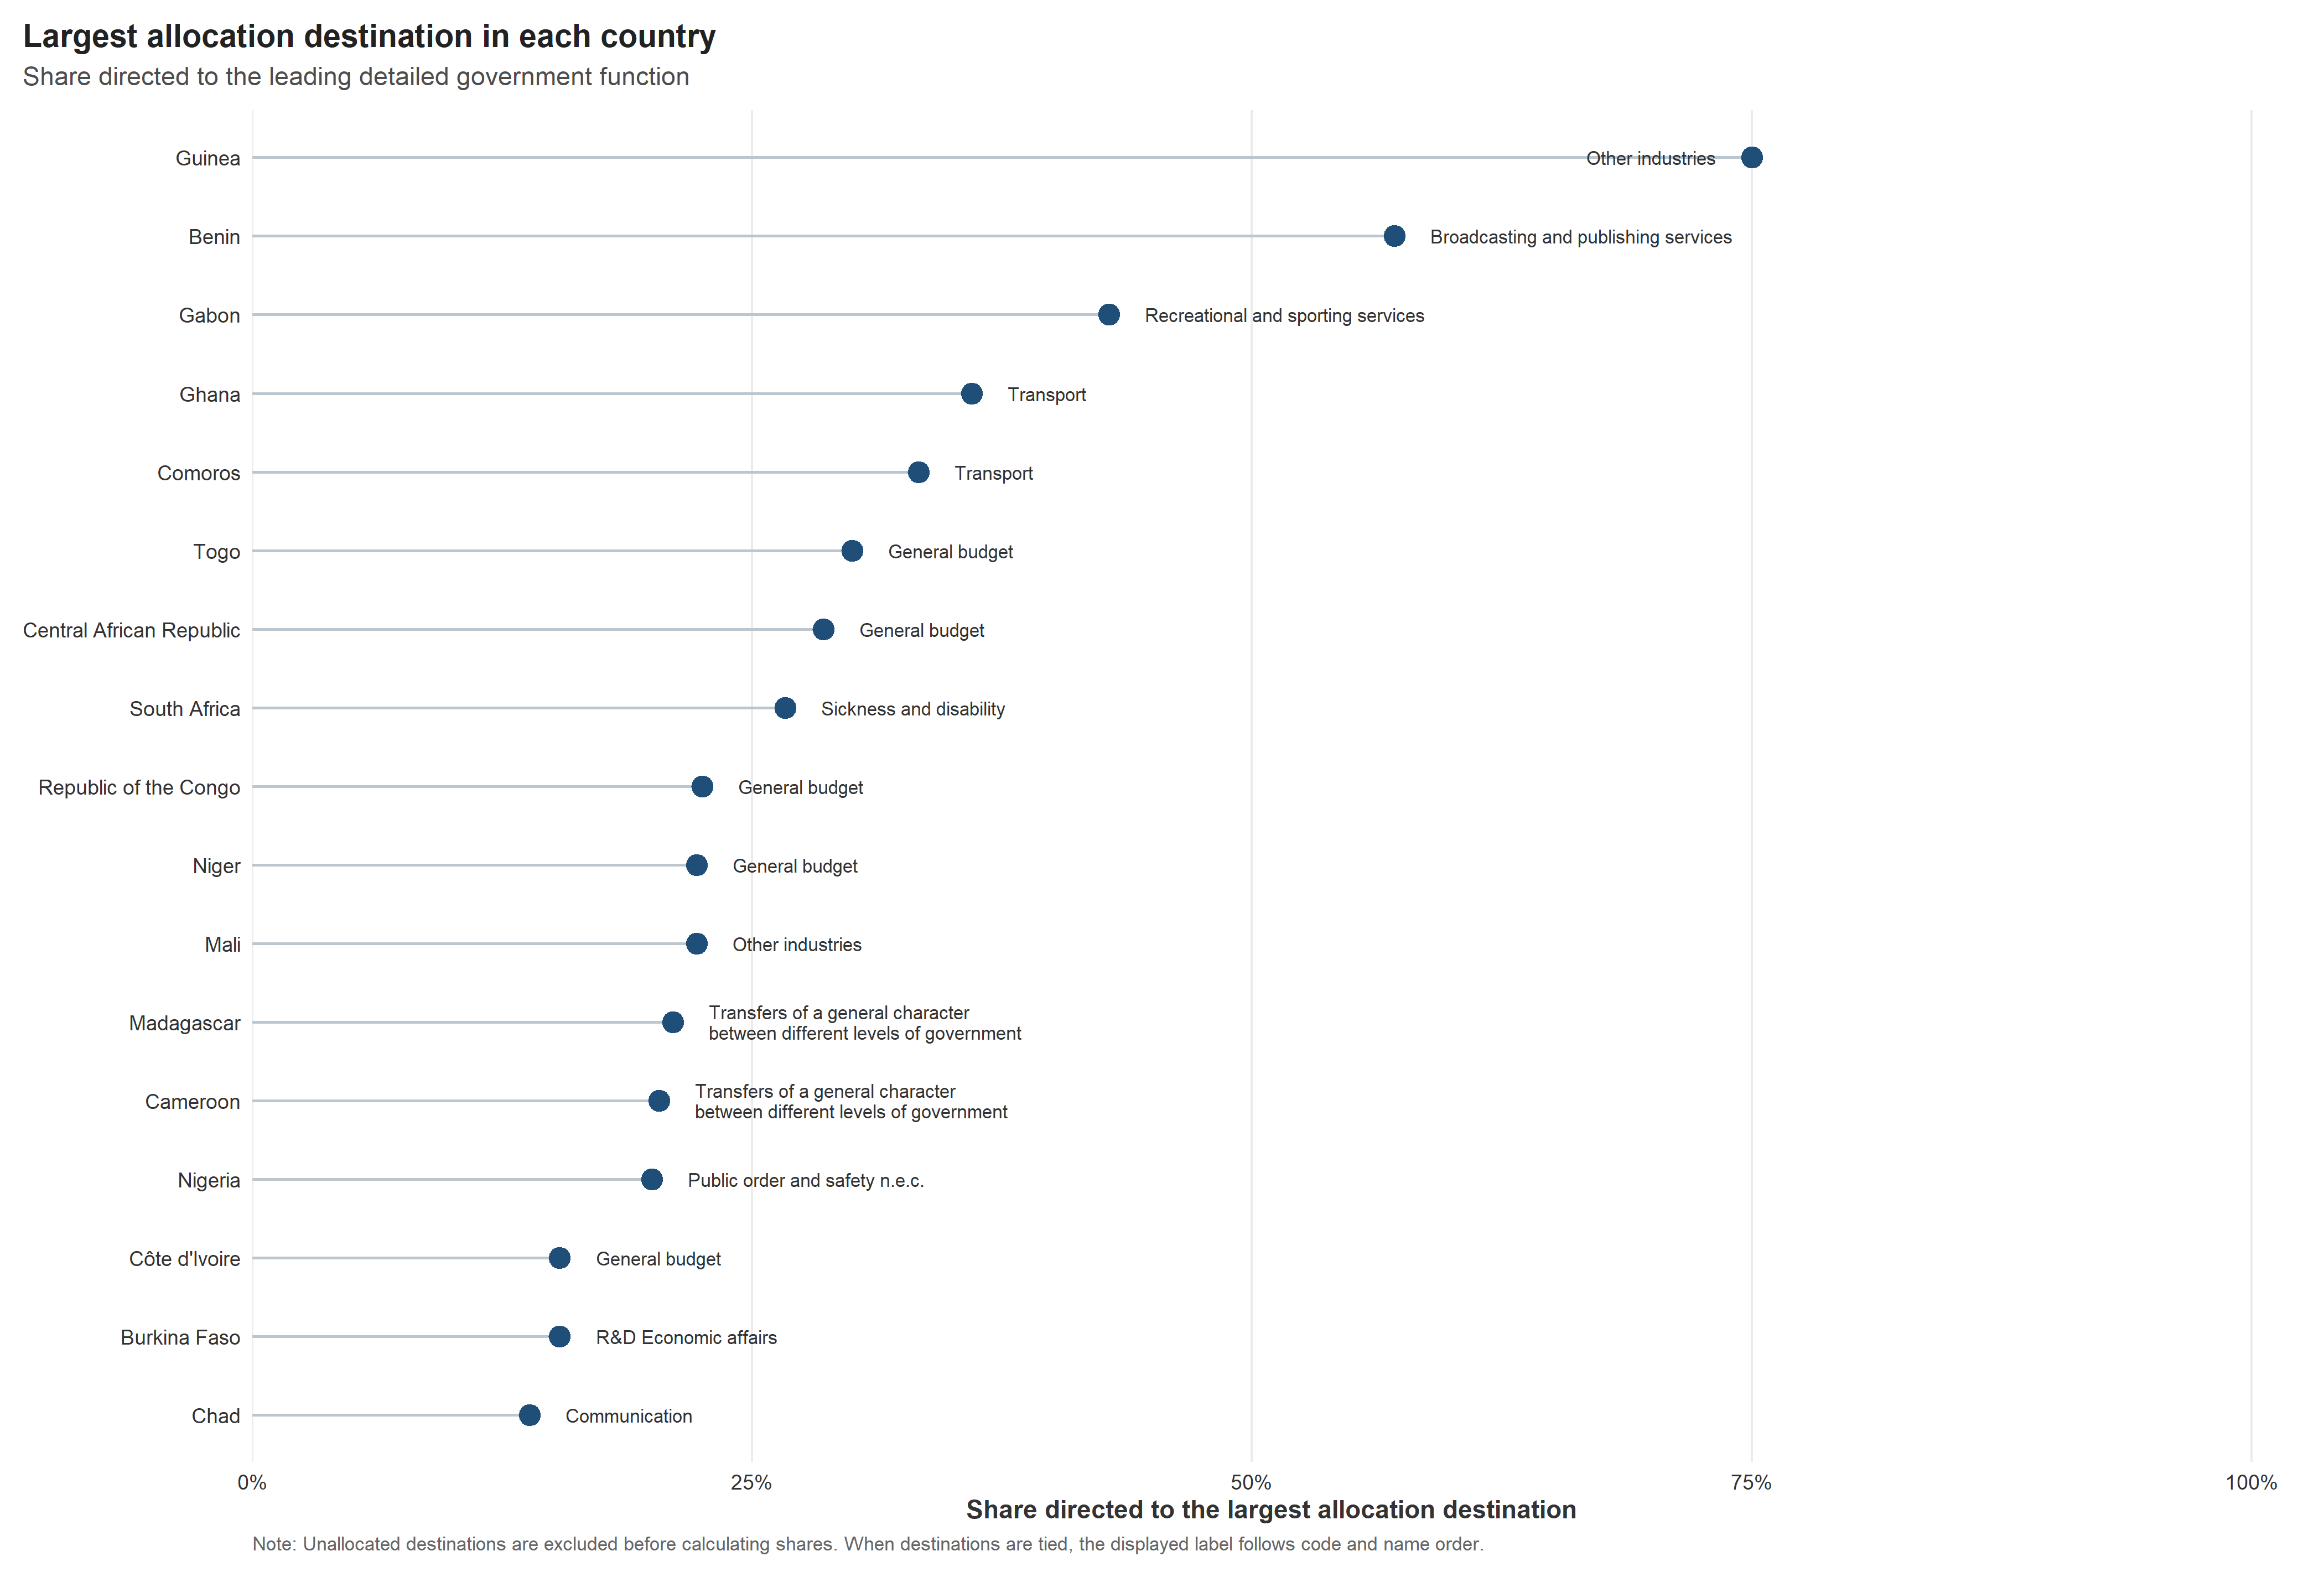

The page's visual inventory and layout, read from the dashboard file:
{"tool":"powerbi","page":{"name":"prevalance earmark","canvas":[1920,1080],"ordinal":3},"visuals":[{"type":"clusteredBarChart","fields":{"Category":["country.country_label"],"Y":["Sum(02_country_summary.allocation_incidence_E_D)"]},"box":[0,0,1920,1080],"z":0}]}

Visuals, with their boxes on the page's 1920x1080 design canvas (x1, y1, x2, y2). These are canvas units, not pixel positions in the 2324x1577 screenshot, which may show the page scaled, cropped or inside an application window:
clusteredBarChart - country.country_label x Sum(02_country_summary.allocation_incidence_E_D): bbox(0, 0, 1920, 1080)
